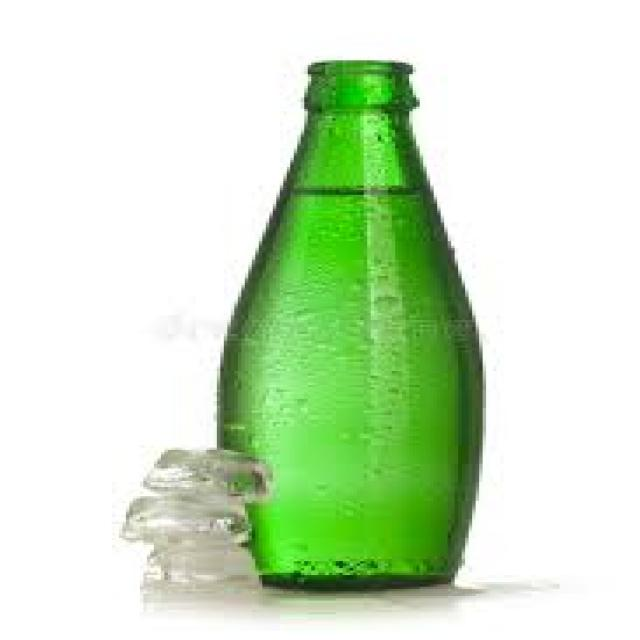Glass-Non-Biodegradable but Recyclable-: (218, 62, 483, 592)
